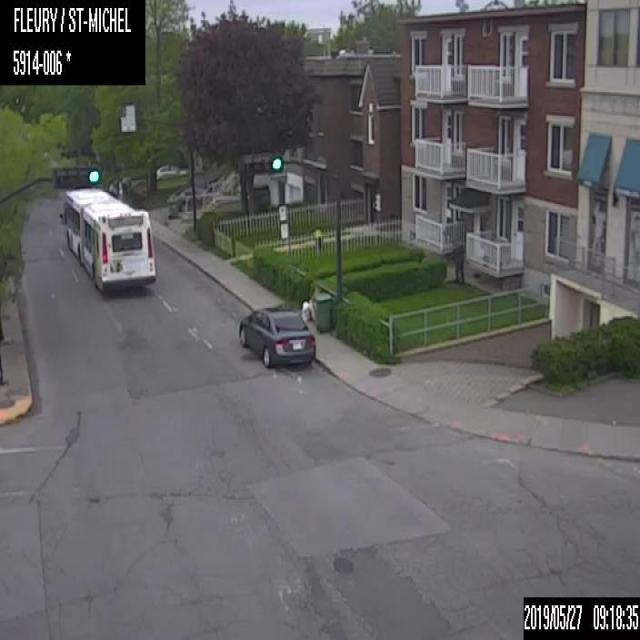bus: (59, 185, 156, 295)
pedestrian: (451, 240, 464, 284)
vehicle: (234, 304, 316, 369)
